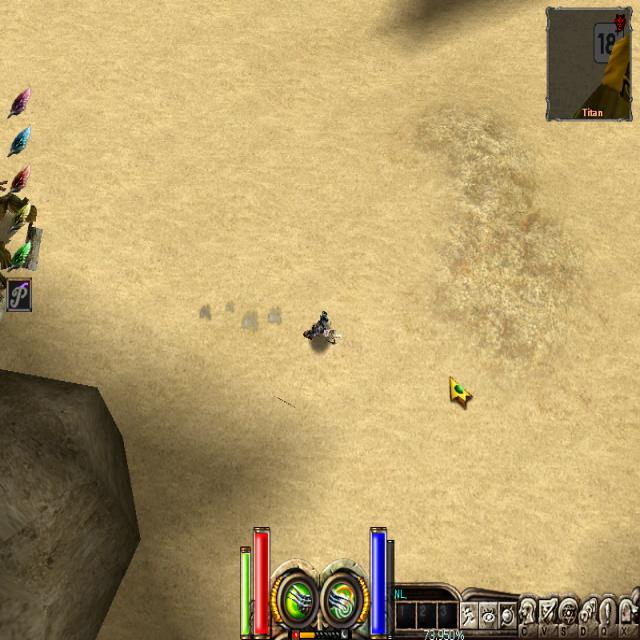hero: (302, 306, 341, 364)
